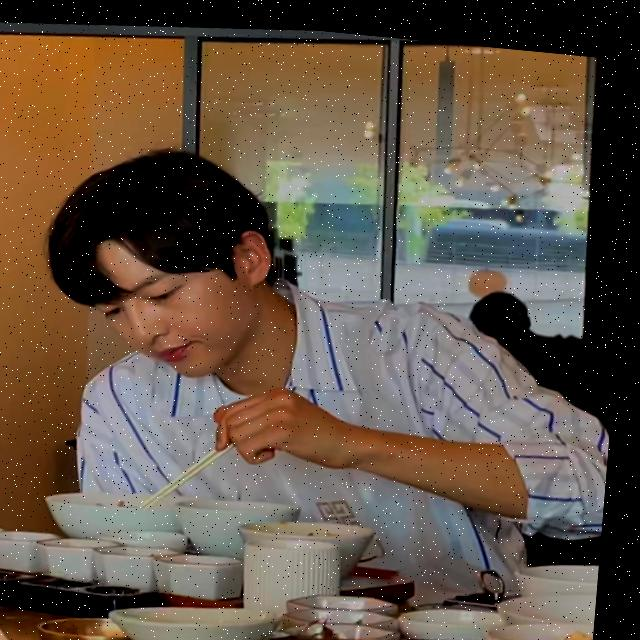eating-person: (0, 69, 636, 640)
